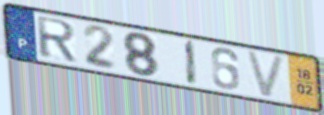2: (81, 23, 118, 74)
6: (209, 47, 242, 92)
8: (122, 31, 162, 79)
I: (183, 38, 199, 88)
R: (34, 14, 79, 64)
V: (243, 48, 288, 100)
